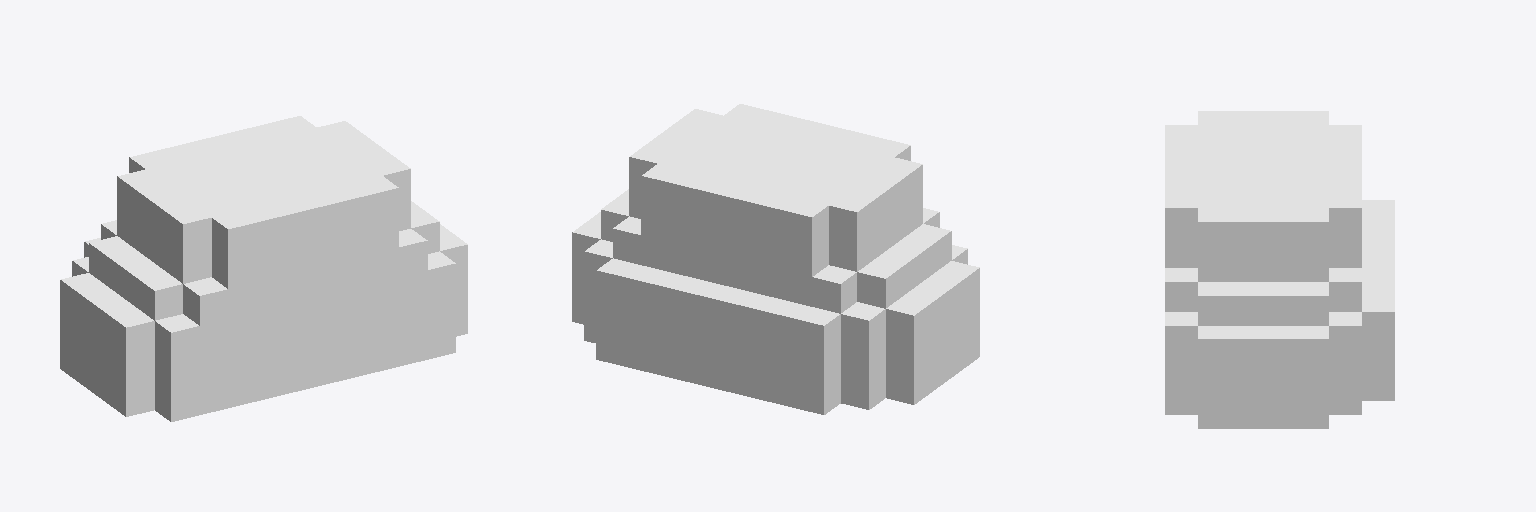
Rendered from female-20.obj.
The picture shows the model from 3 angles: view 1: azimuth 30°, elevation 25°; view 2: azimuth 150°, elevation 25°; view 3: azimuth 270°, elevation 25°; orthographic projection.
Visible parts, largest first — view 1: object 1; view 2: object 1; view 3: object 1.
Boxes of the visible parts, x1=… form: object 1: x1=60, y1=116, x2=467, y2=421; object 1: x1=572, y1=104, x2=979, y2=414; object 1: x1=1165, y1=111, x2=1394, y2=428.
Bounding box in the file's own units: 1.2 × 0.6 × 0.7.